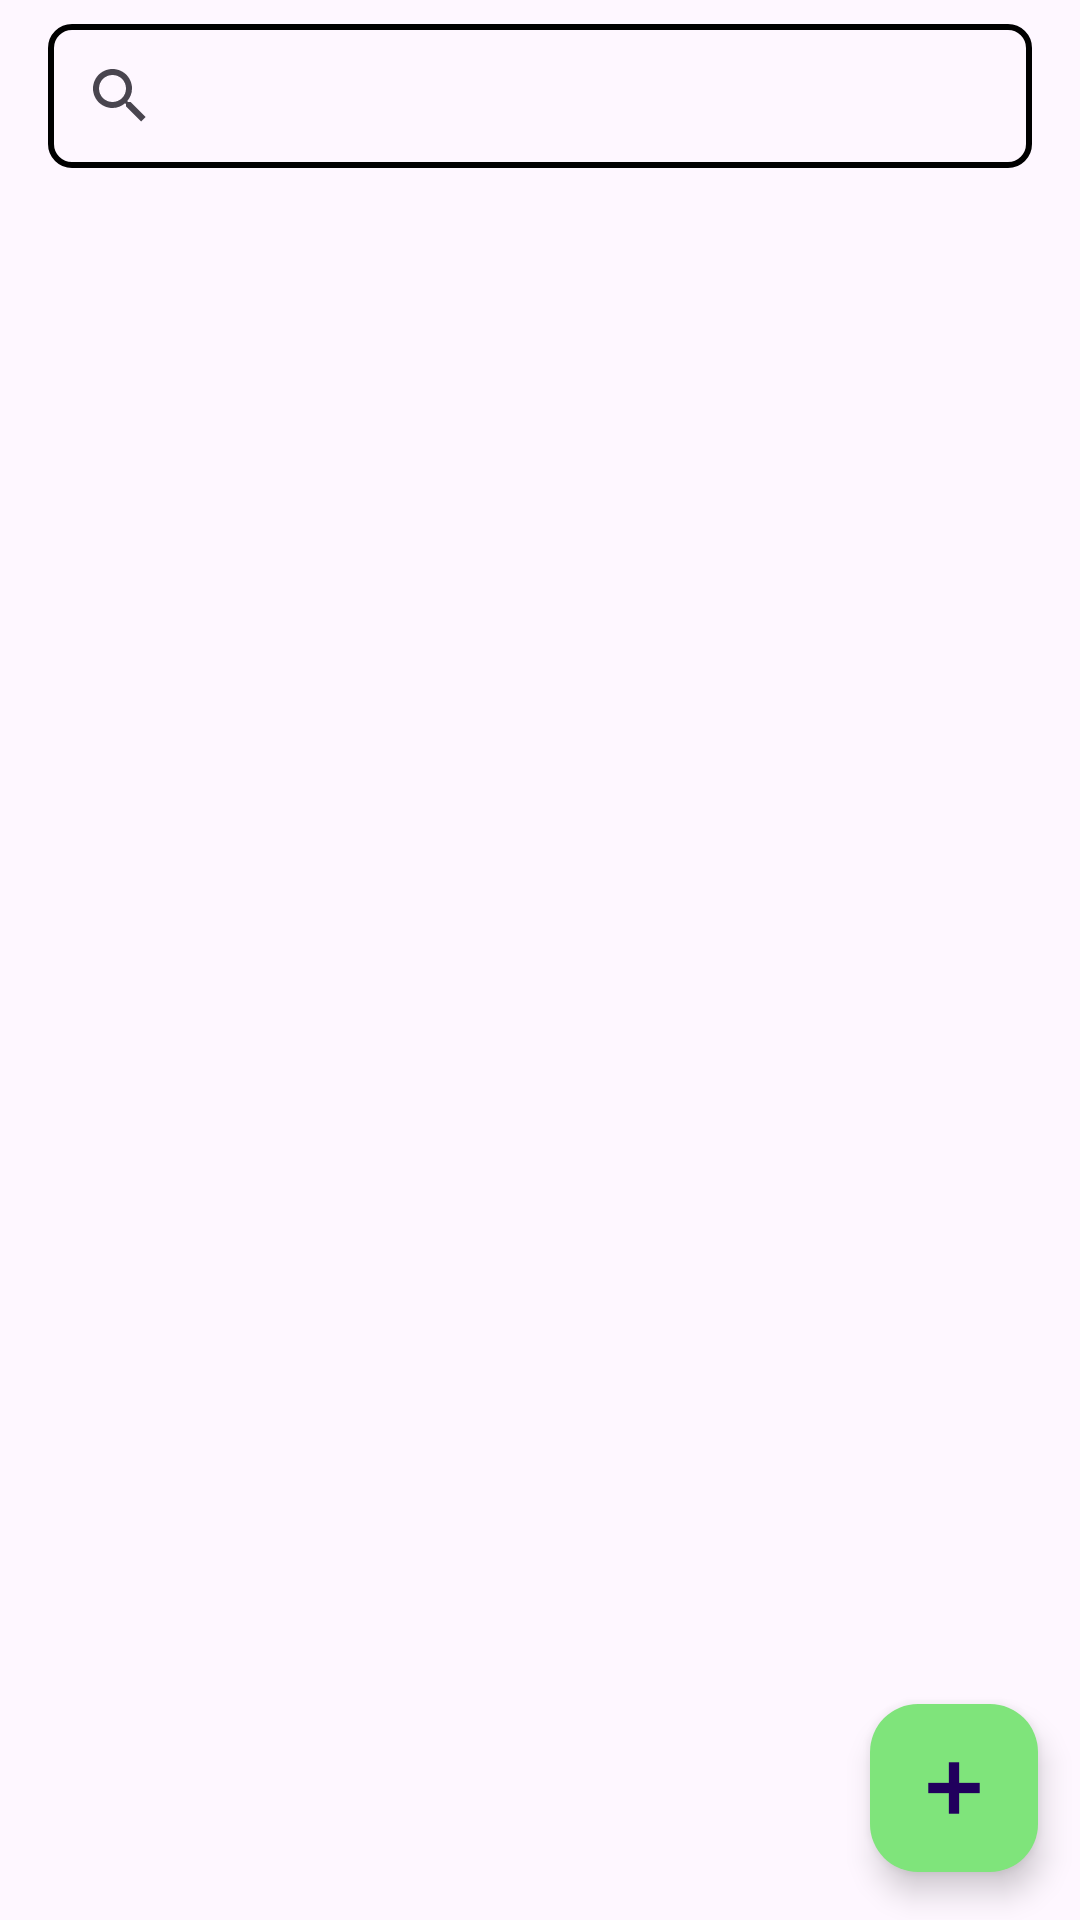

Point at icon controls on the screen. Image size 1080×1920, points as (x=x, y=y).
add: (x=954, y=1788)
